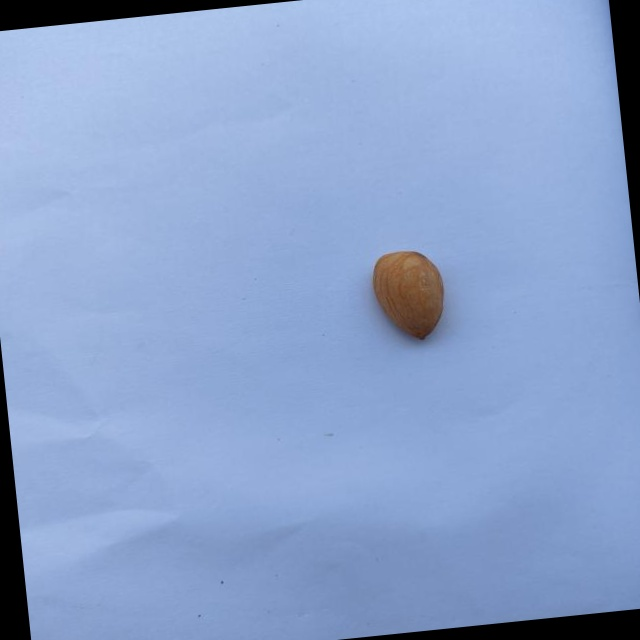grade2: (363, 244, 452, 348)
